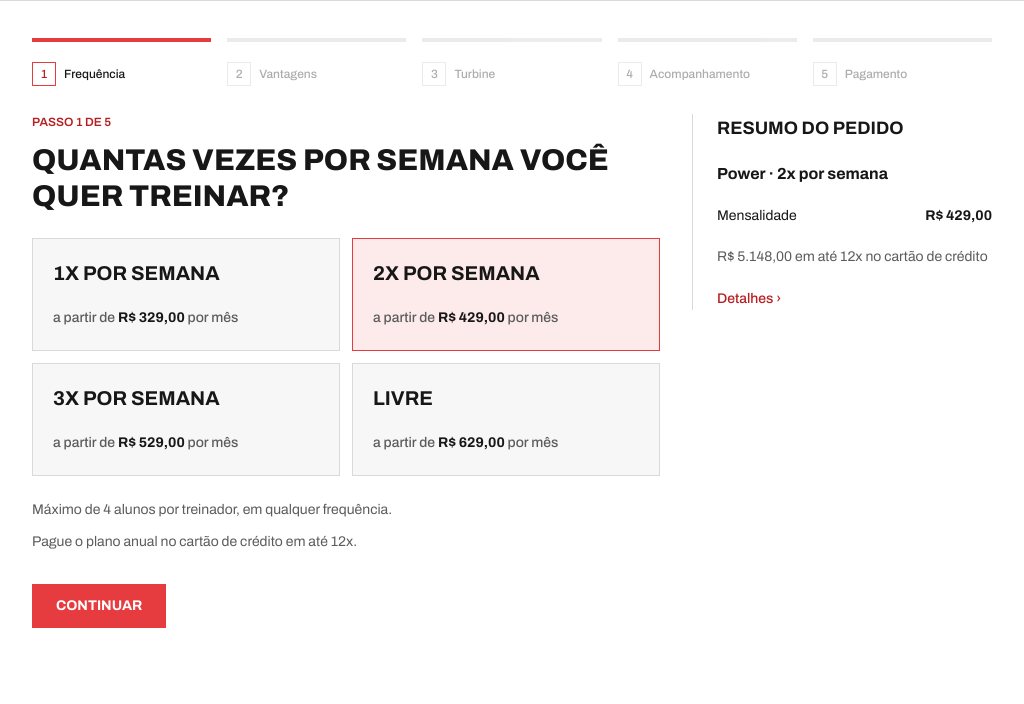
Test: parcelas escolhidas na etapa final de pagamento › passo 5 não pede mais o número de parcelas e o cartão diz 'em até 12x'
This screenshot has width=1024, height=704.
Click the button "Continuar": (99, 606) [32,584,166,628]
(page scrolled)
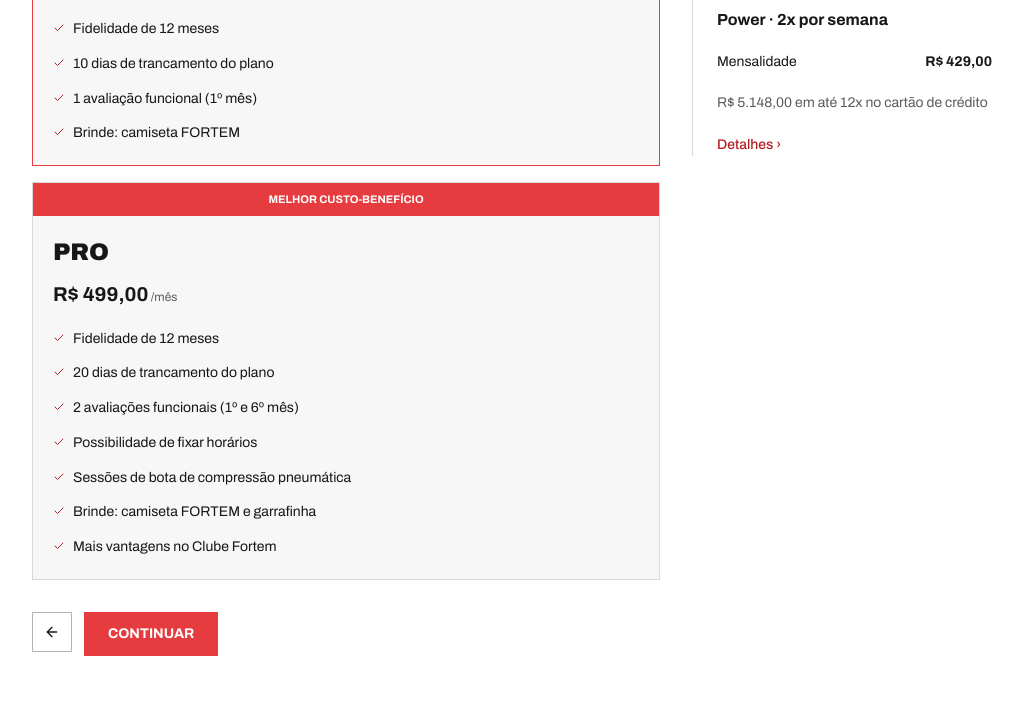
Click the button "Continuar": (151, 634) [84,612,218,656]
(page scrolled)
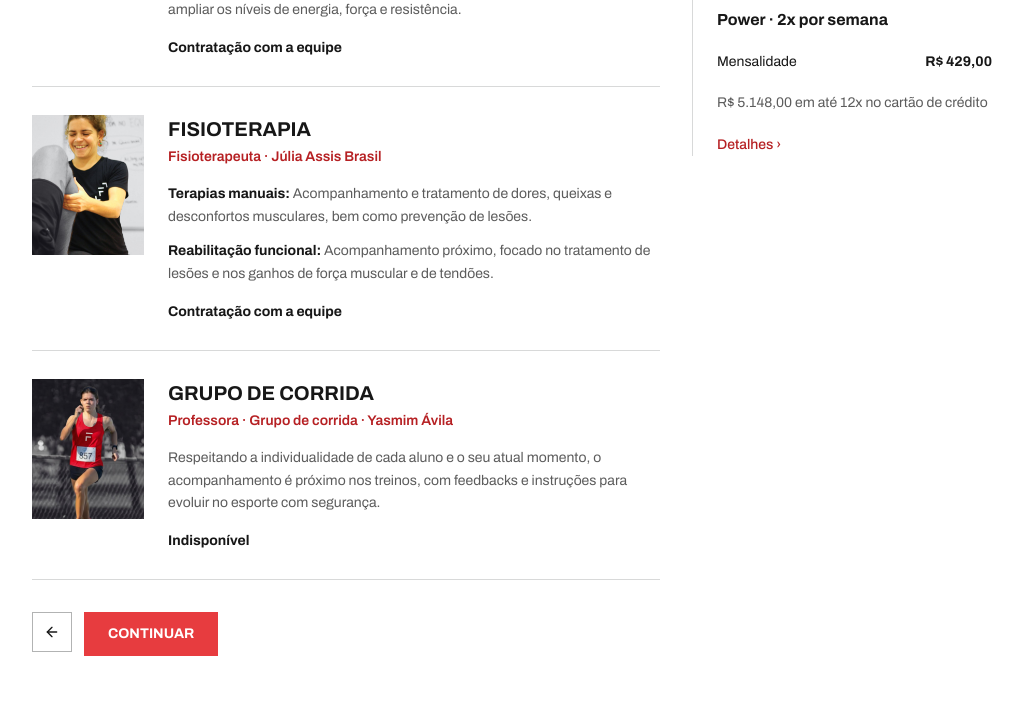
Click the button "Continuar": (151, 634) [84,612,218,656]
(page scrolled)
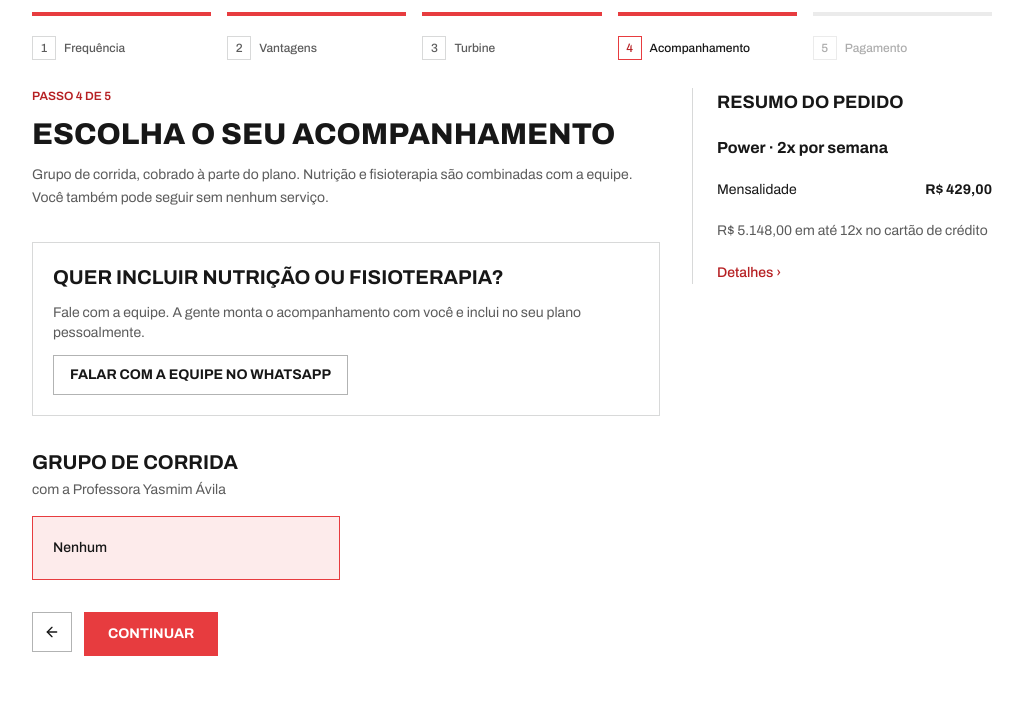
Click the button "Continuar": (151, 634) [84,612,218,656]
(page scrolled)
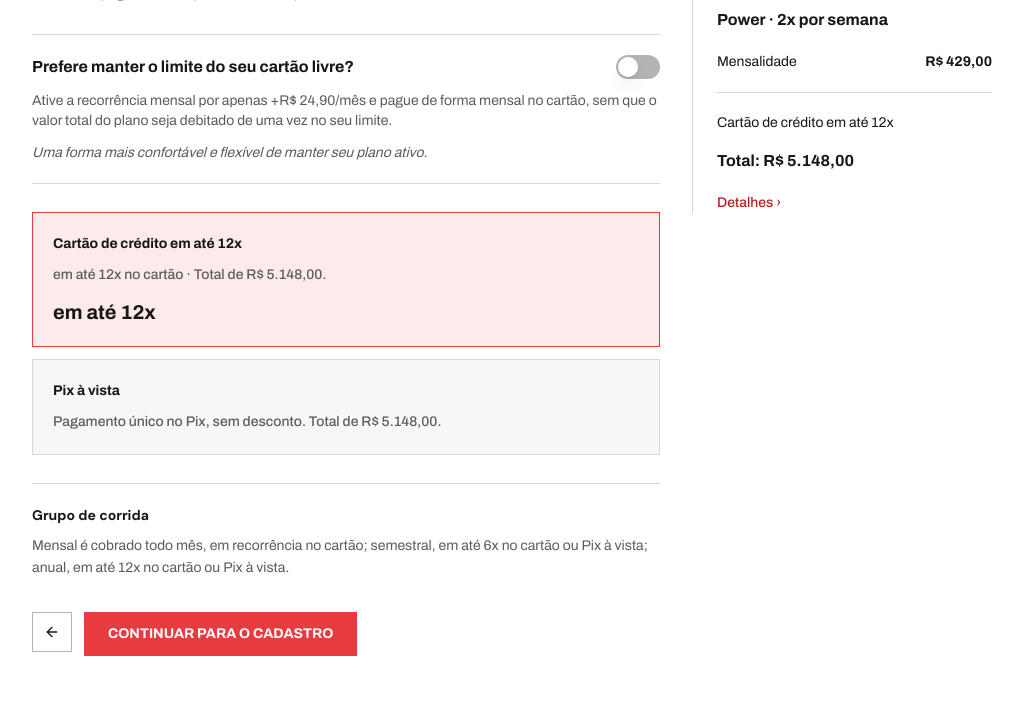
Check: the text "em até 12x no cartão · Total de R$ 5.148,00." is shown, box [53,264,326,286]
